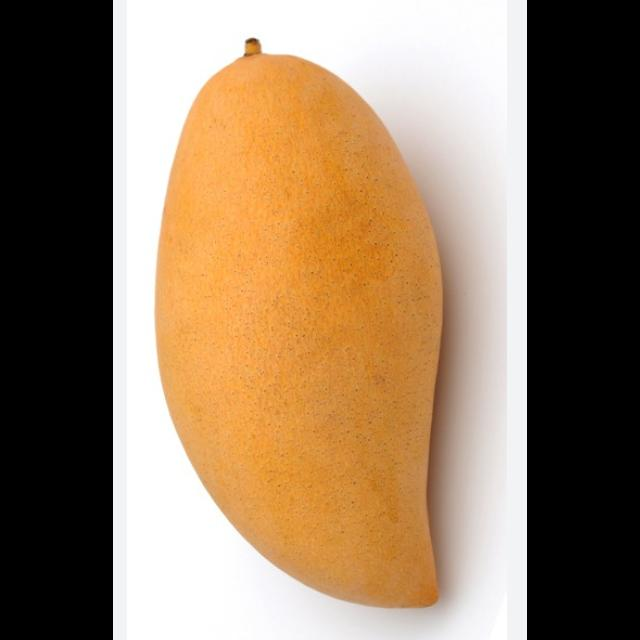mango: (156, 50, 448, 608)
